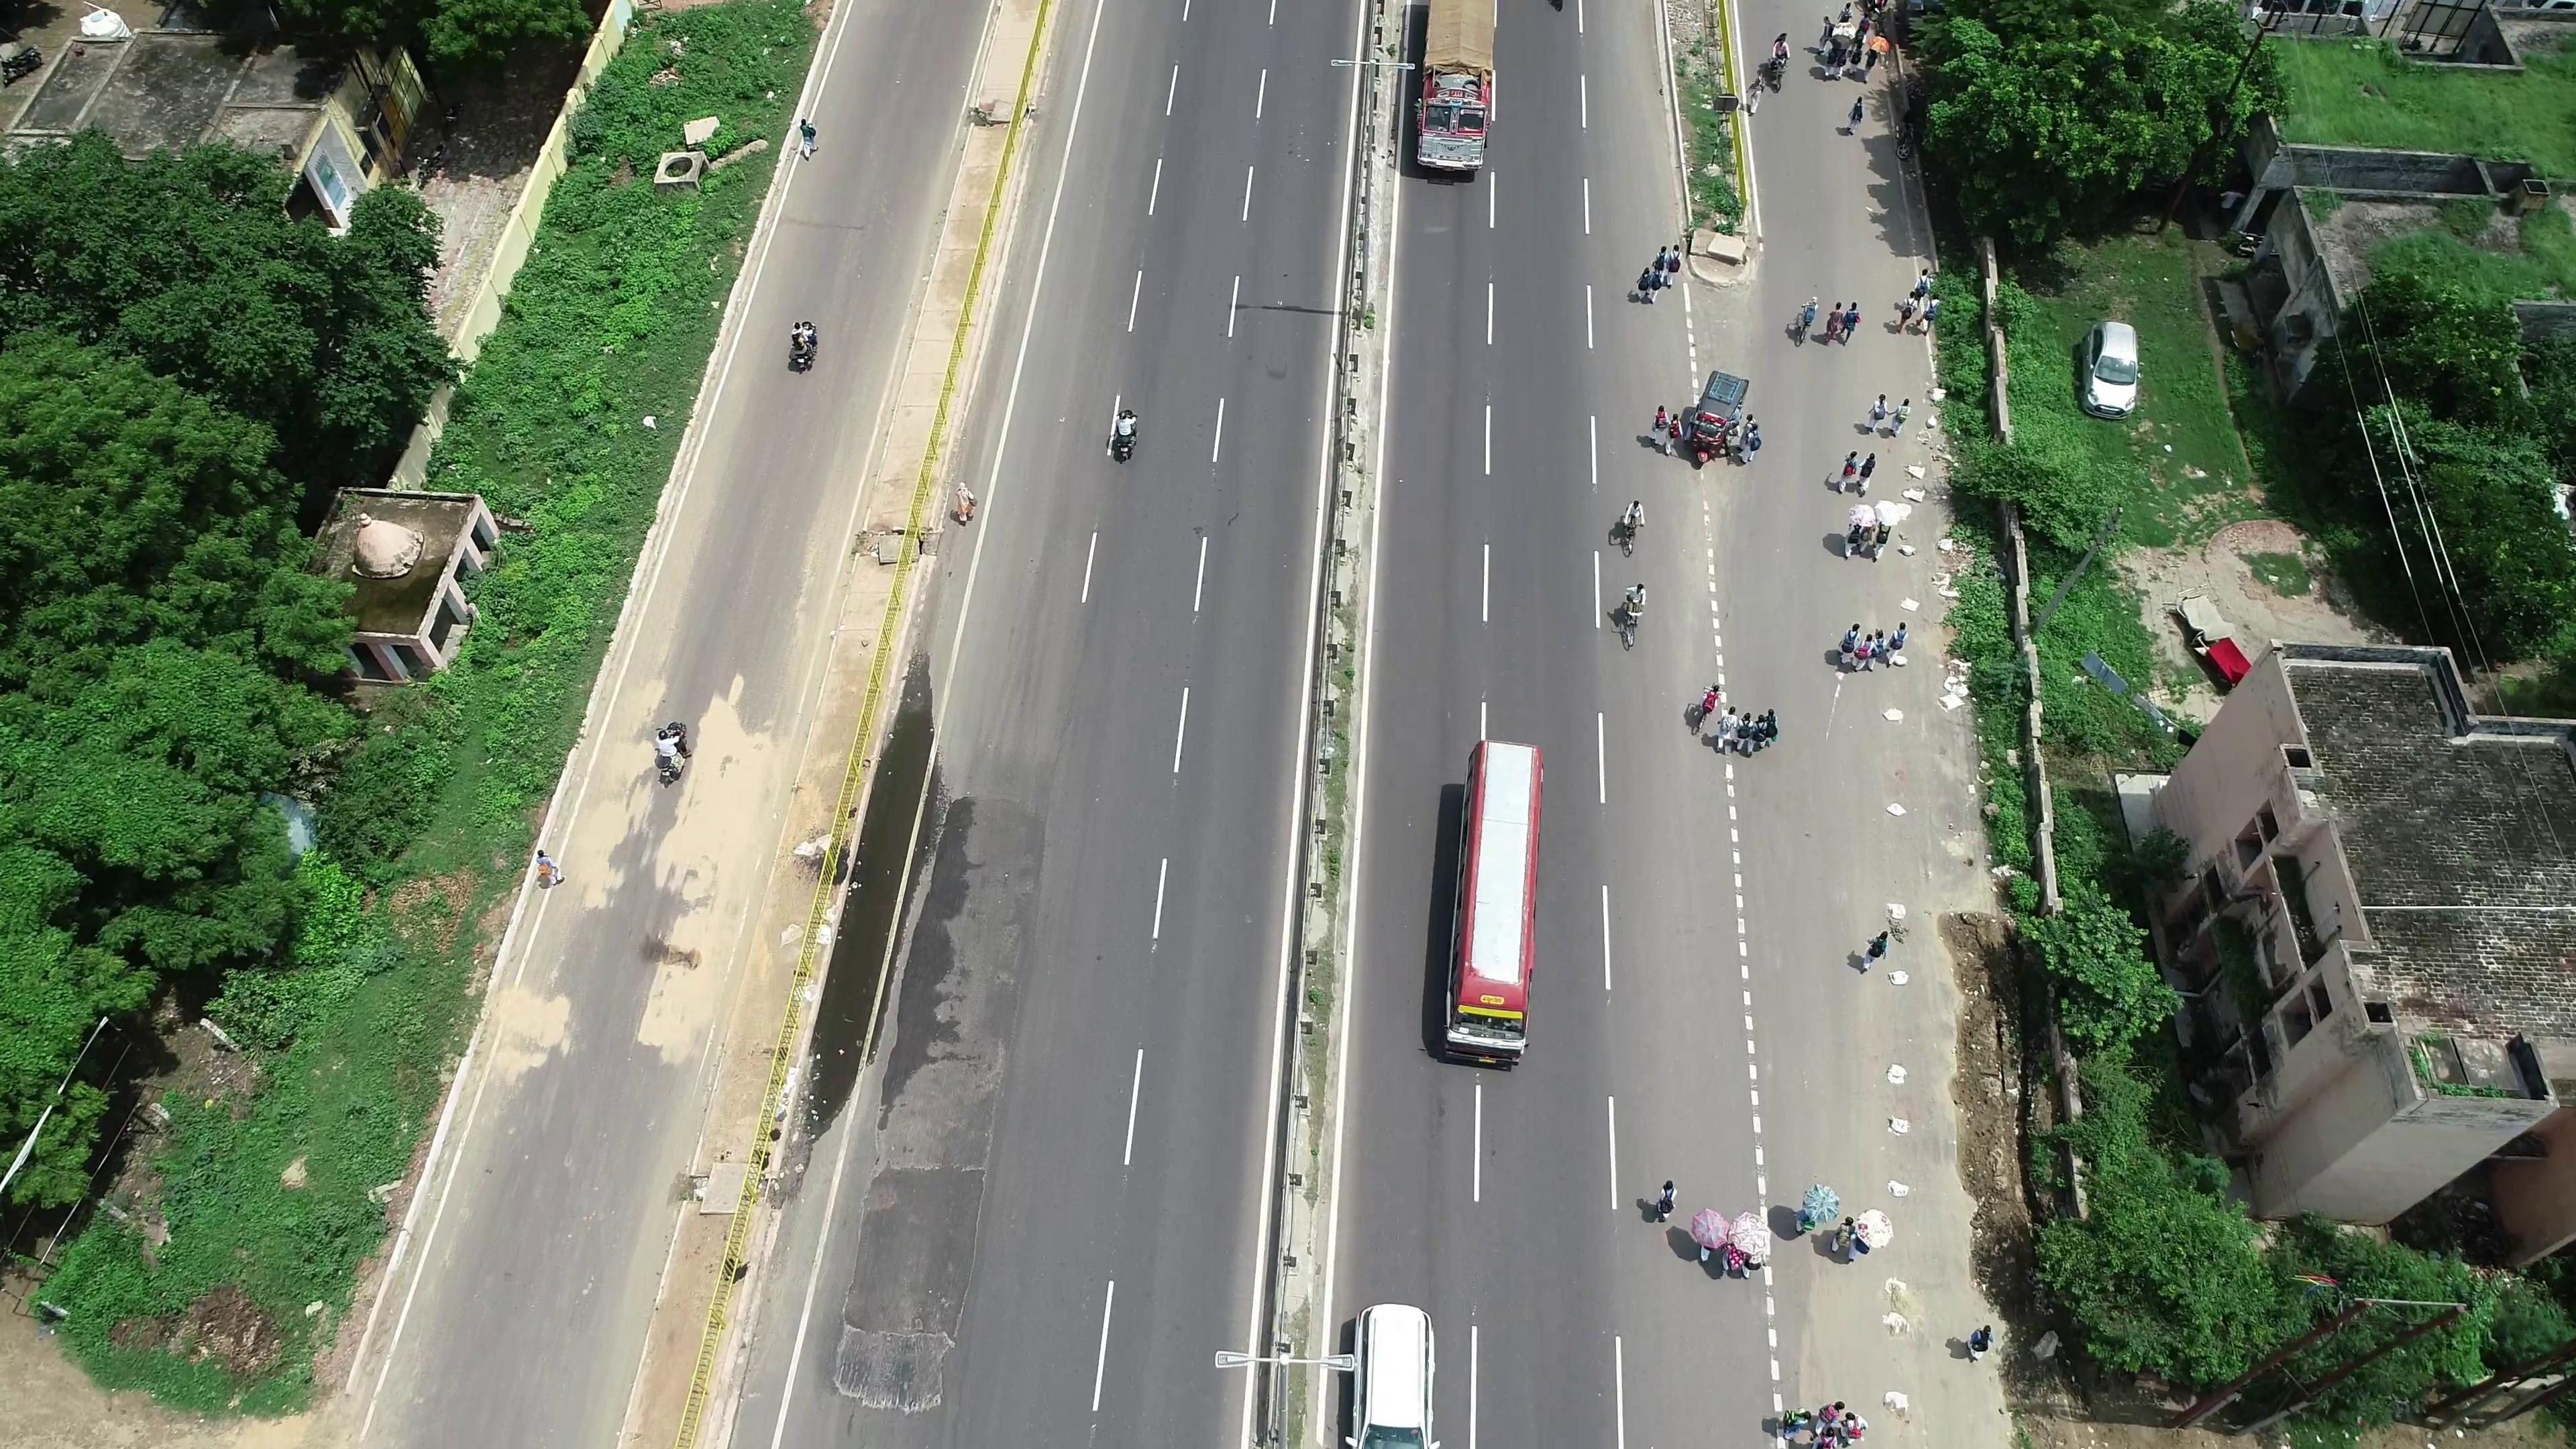Waterlogging: (798, 727, 947, 1099)
